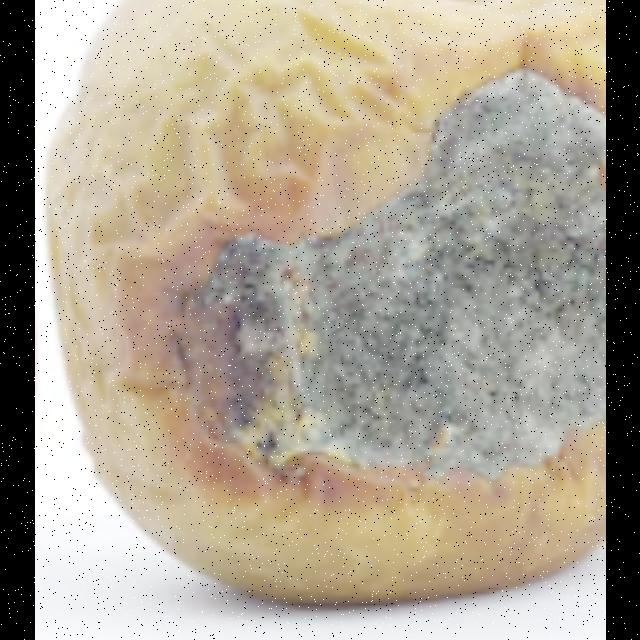Apel Tidak Segar: (80, 0, 606, 608)
